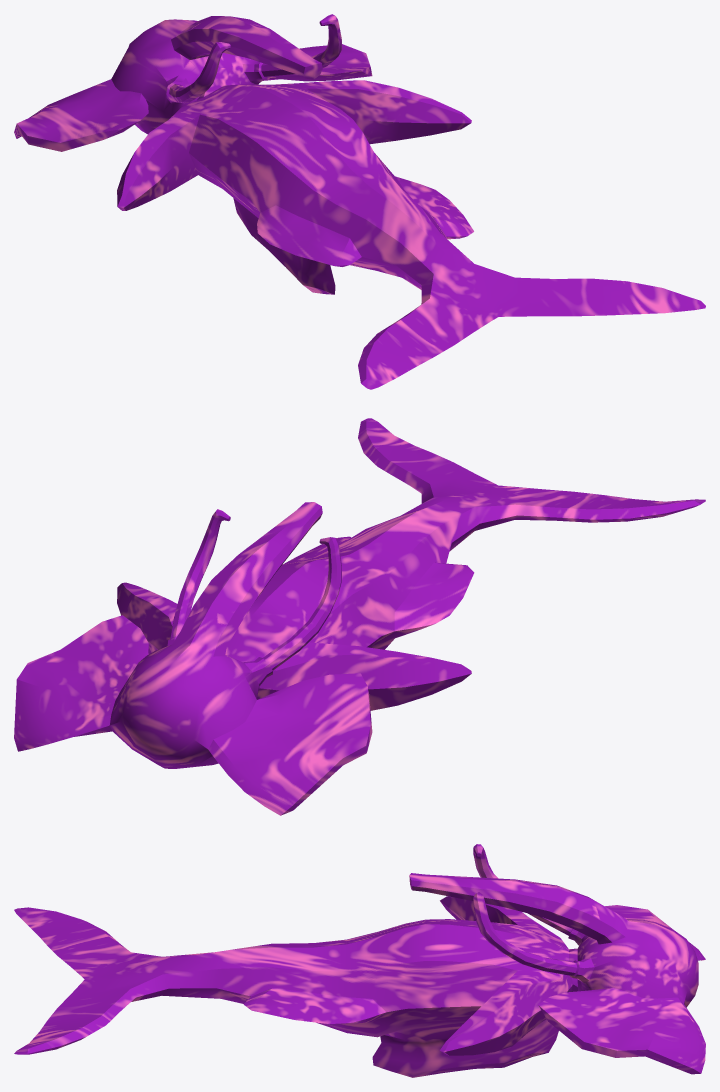
The model's file is relic gajahmina.fbx.
3 views of the same model, one above another, from view 1: azimuth 30°, elevation 25°; view 2: azimuth 150°, elevation 25°; view 3: azimuth 270°, elevation 25° (orthographic). The views are drawn at different scales.
Parts seen in each view (by area): view 1: Gajahmina; view 2: Gajahmina; view 3: Gajahmina.
Boxes of the visible parts, x1,y1,x2,y2 form: Gajahmina: (14, 14, 705, 389); Gajahmina: (14, 418, 705, 815); Gajahmina: (14, 844, 705, 1077).
Size of the model in its own units: 253 by 161 by 484.
